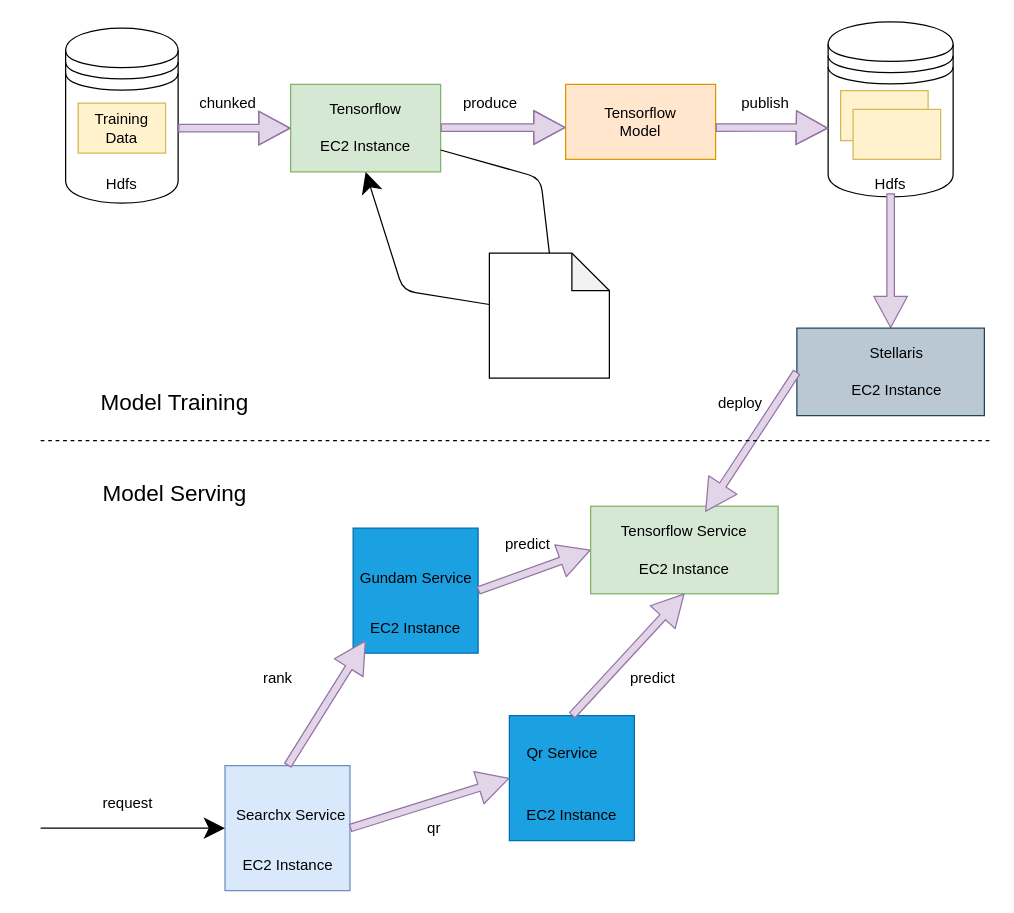
This 1014x913 diagram has some shape labels left out. The shapes that lost their labels are listed below. From the top down, each one's box as (x1, y1, x2, y2) in pixels, then its label:
(852, 108, 941, 159): Model v1
(488, 252, 609, 378): Train and Validate Model
